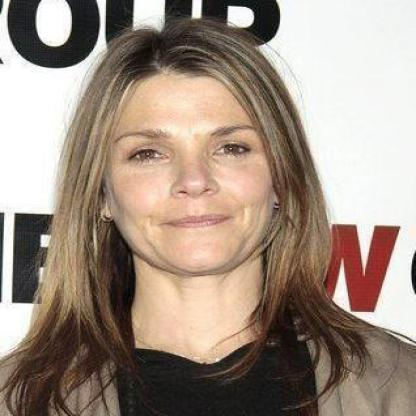long-hair: (26, 275, 368, 348)
